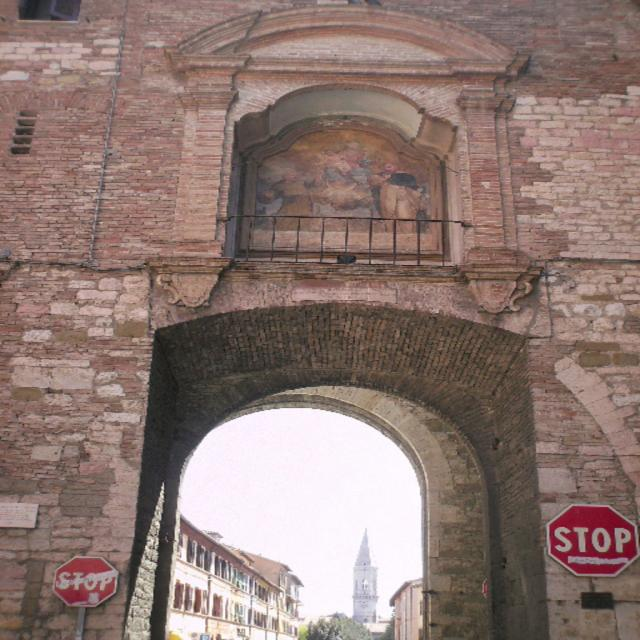Stop-sign: (545, 503, 639, 580), (49, 555, 119, 610)
